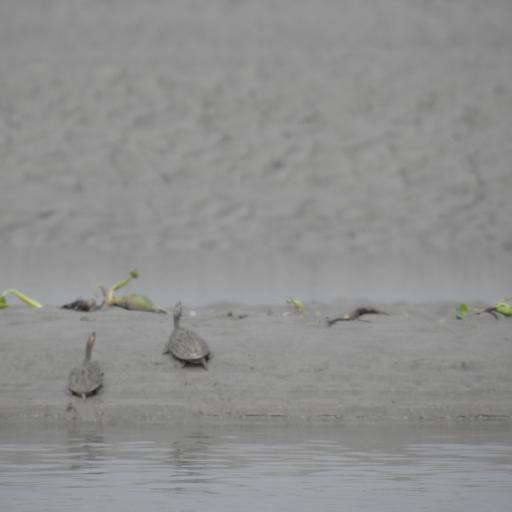turtle: (166, 291, 214, 372), (67, 324, 109, 405)
